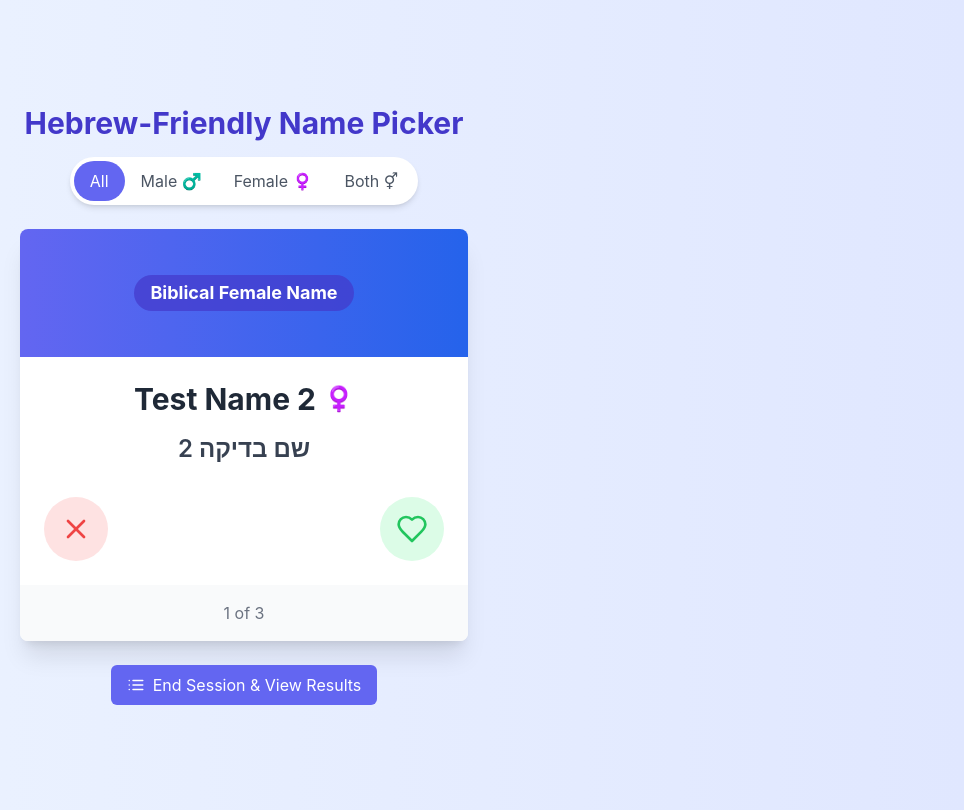
Test: HebrewNamesTinder › filters names by gender when filter buttons are clicked
# Click male filter
Click the button "Male ♂️": [171, 181] box [125,161,218,201]
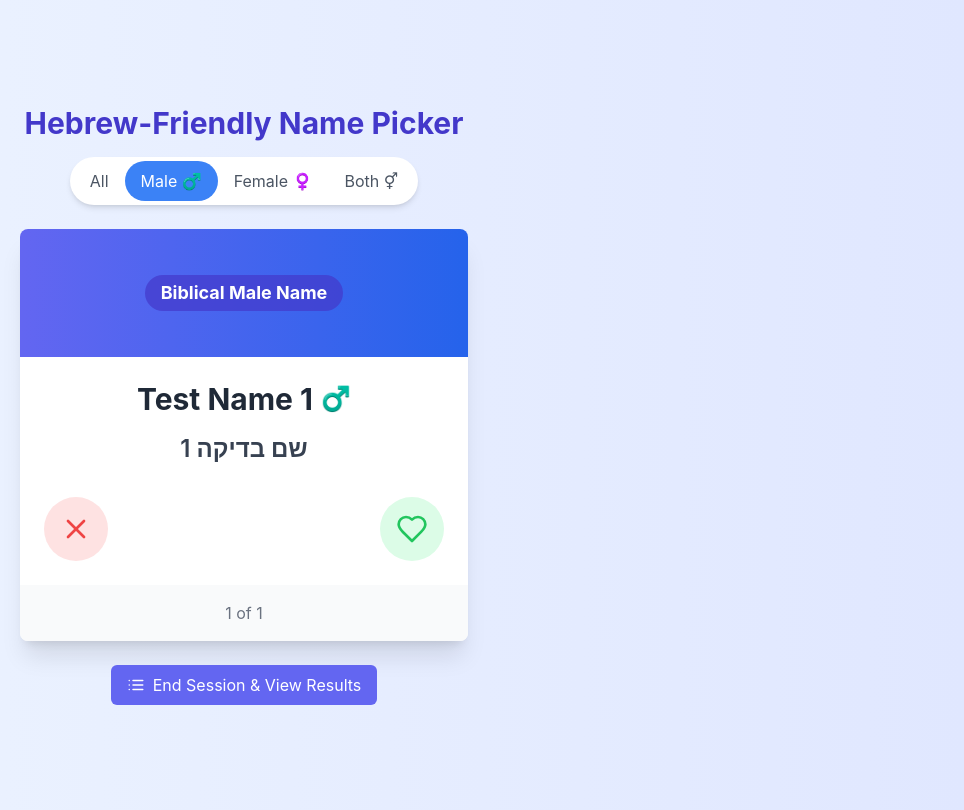
Expected: the heading "Test Name 1" is shown, [137,381,313,417]
# Click female filter
Click the button "Female ♀️": [273, 181] box [218,161,328,201]
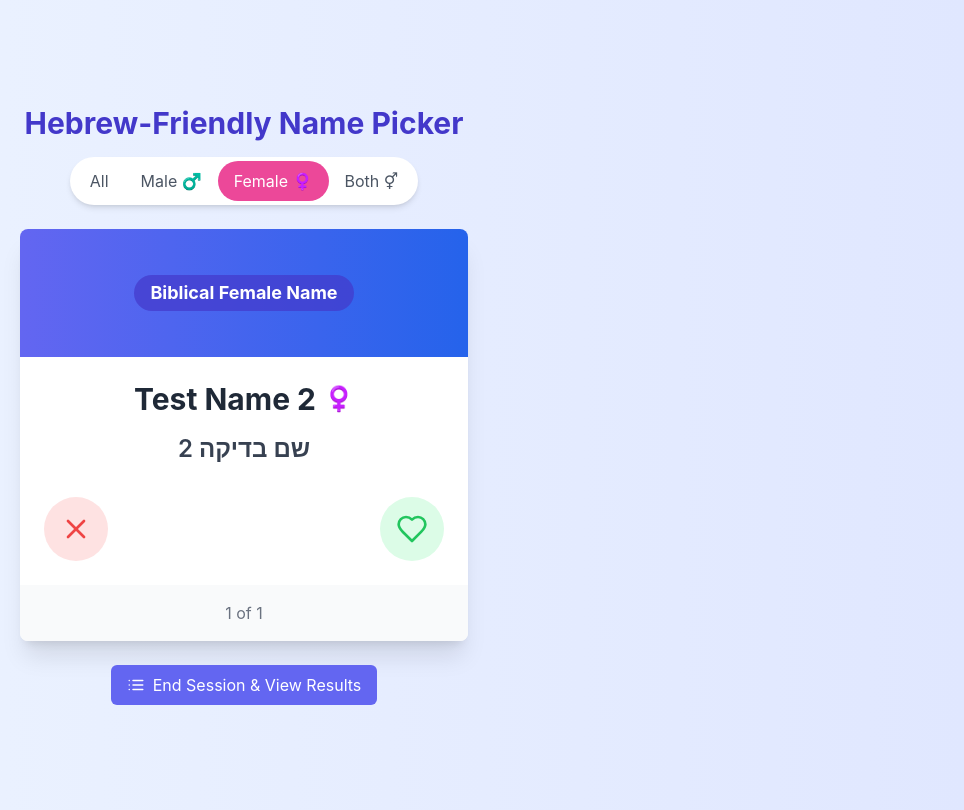
Expected: the heading "Test Name 2" is shown, [134,381,316,417]
